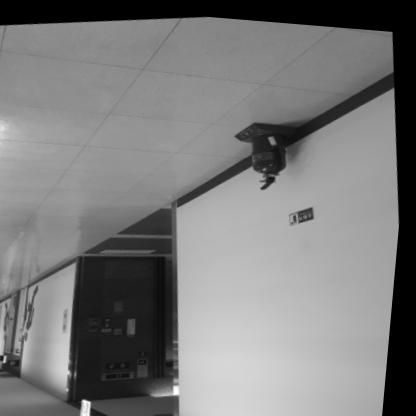FE: (230, 111, 303, 190)
